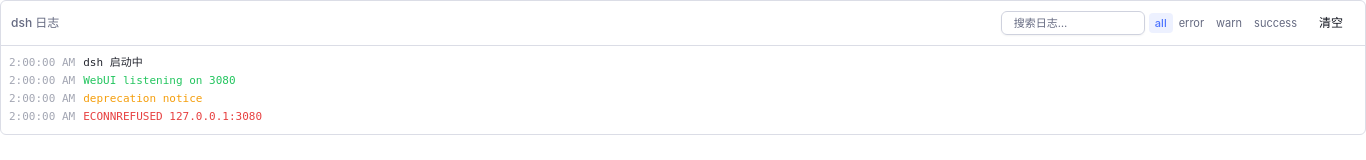
DshLogs interactions › level buttons narrow the view and empty state shows hint
The width and height of the screenshot is (1366, 160).
Click the button "error" at (1191, 23), box [1173,13,1210,33]
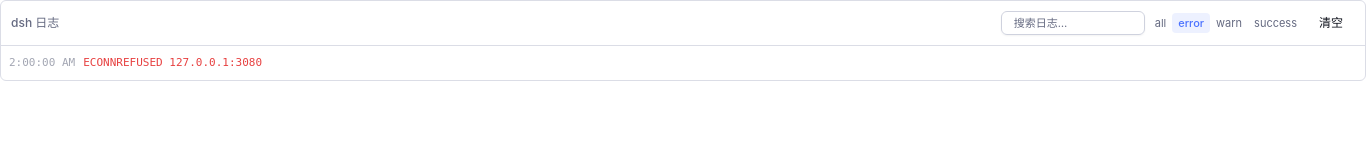
Result: the text "ECONNREFUSED" is shown at [83,56,262,69]
Result: the text "dsh 启动中" is gone
Type "不存在" into the field labelled "搜索日志" at (1073, 23), box [1001,11,1145,35]
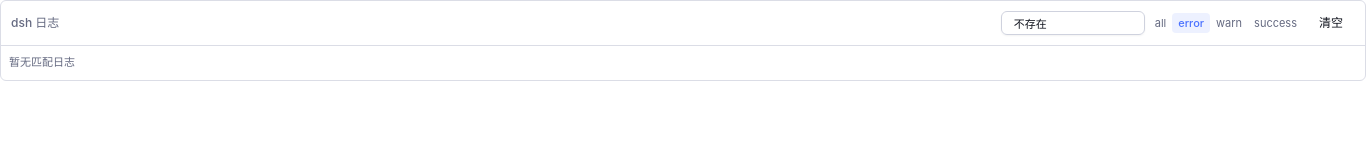
Result: the text "暂无匹配日志" is shown at [9,56,75,69]
